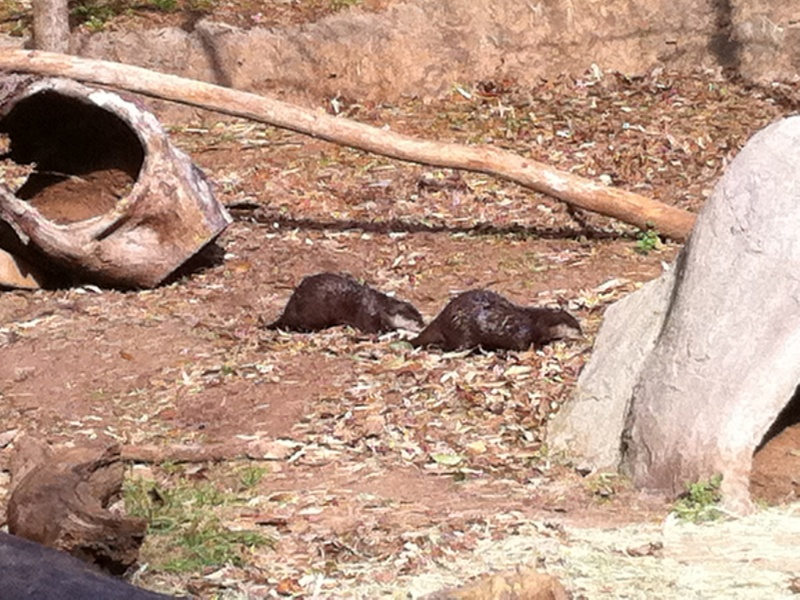minkish: (413, 288, 587, 358), (265, 270, 426, 341)
